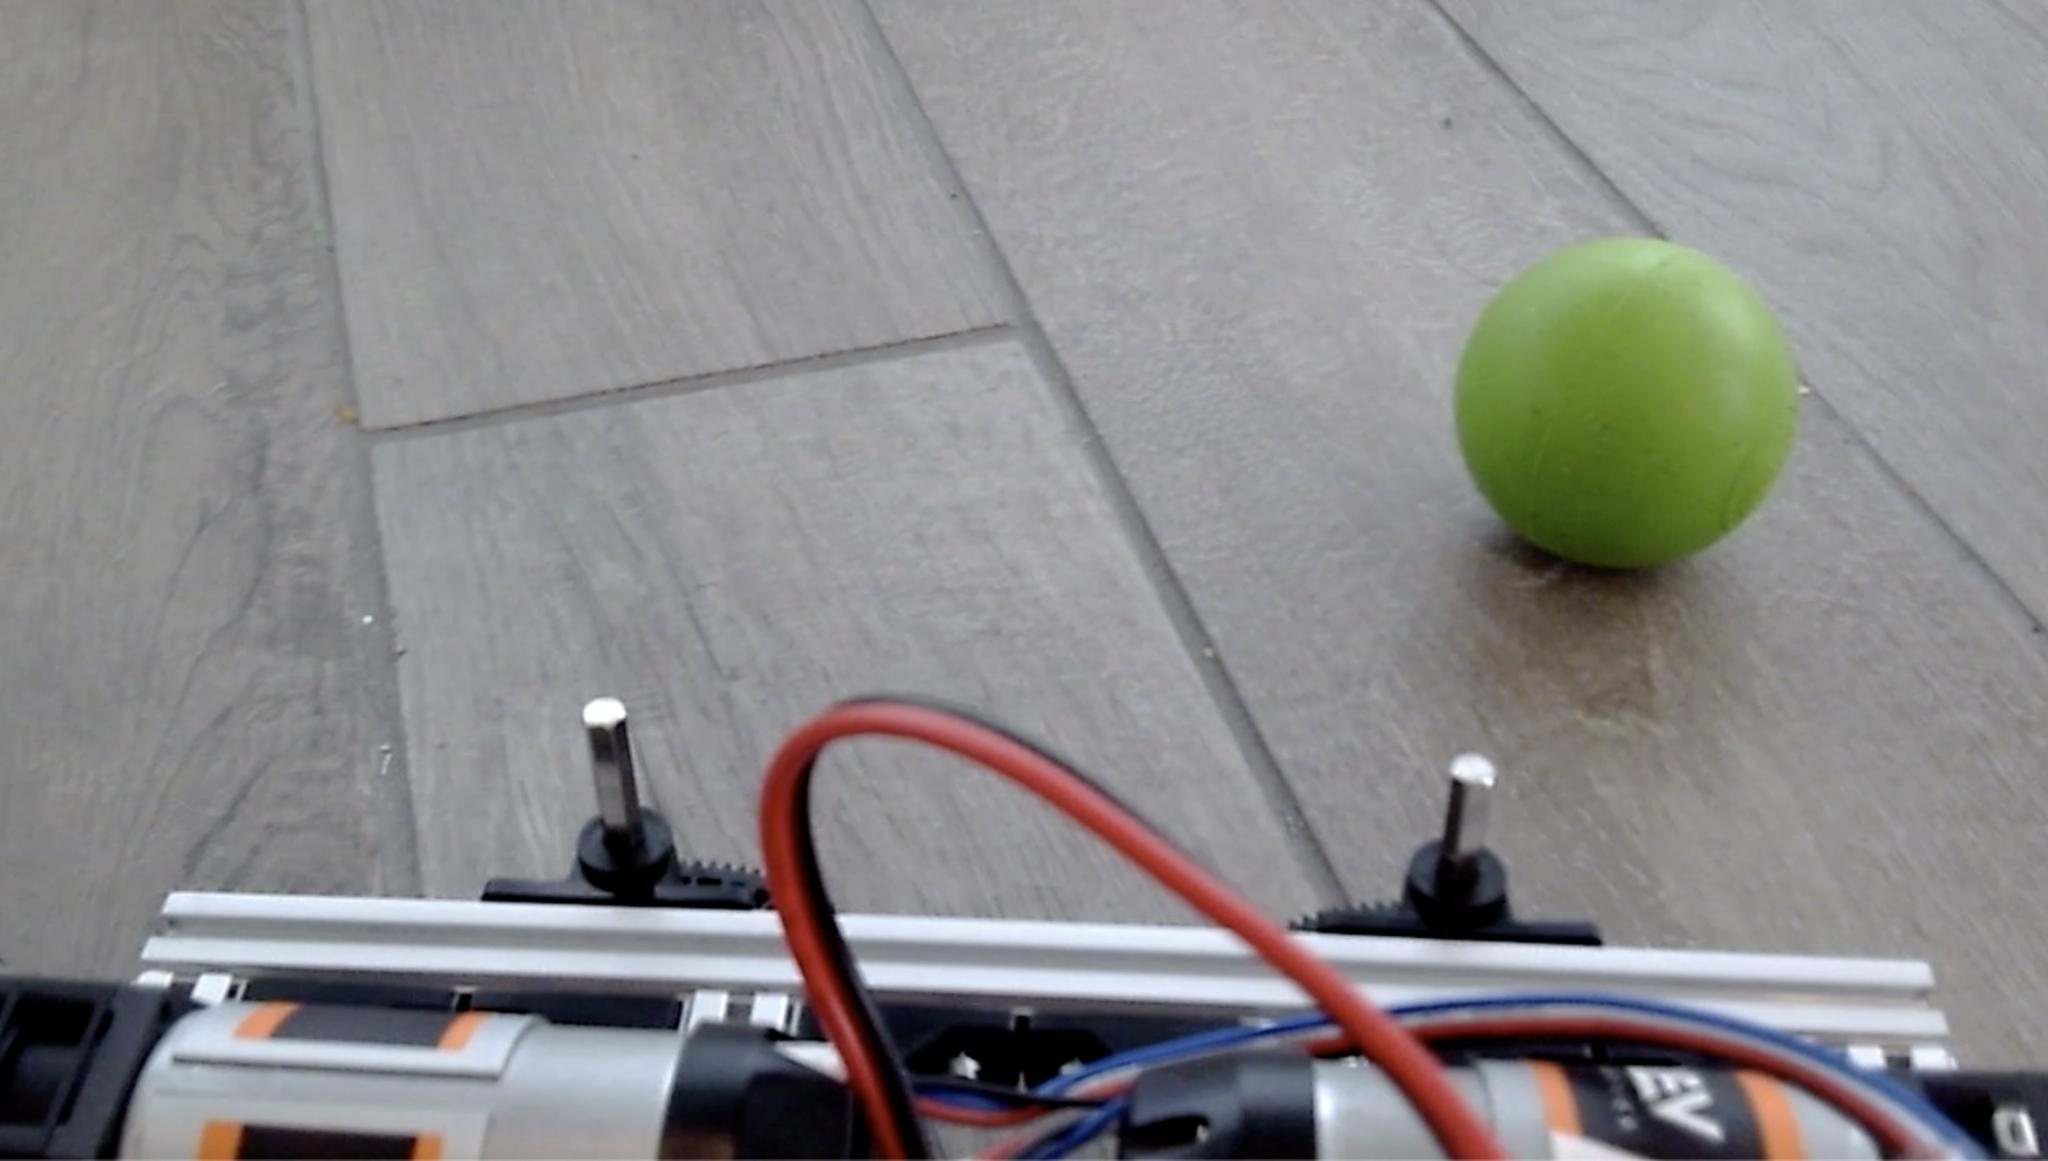greenball: (1449, 231, 1802, 574)
